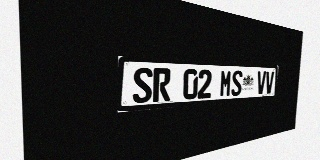0: (183, 69, 198, 100)
2: (197, 69, 212, 99)
M: (219, 70, 232, 97)
R: (153, 68, 171, 102)
S: (132, 67, 153, 104), (231, 70, 243, 96)
V: (256, 71, 266, 94), (265, 71, 274, 94)
